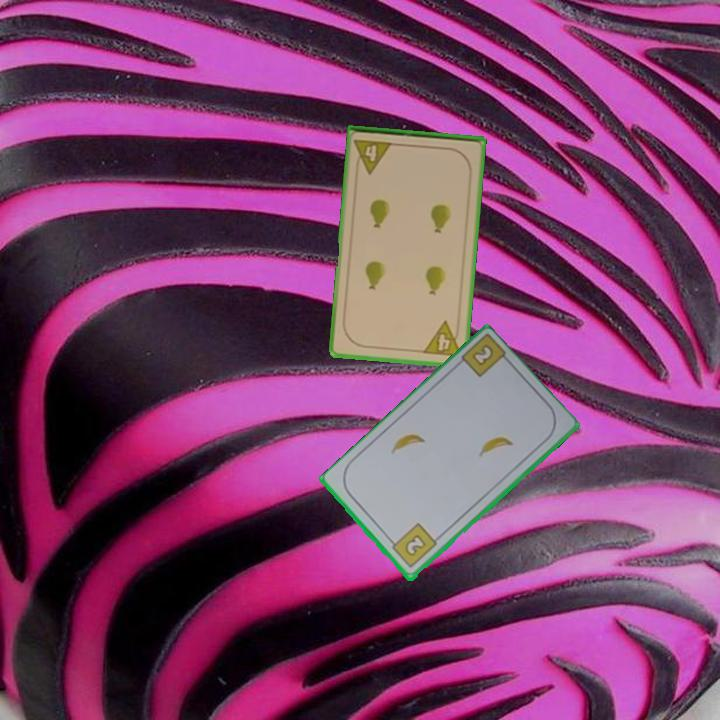2b: (386, 520, 440, 571), (471, 343, 494, 367)
4p: (419, 318, 464, 360), (351, 136, 395, 176)
